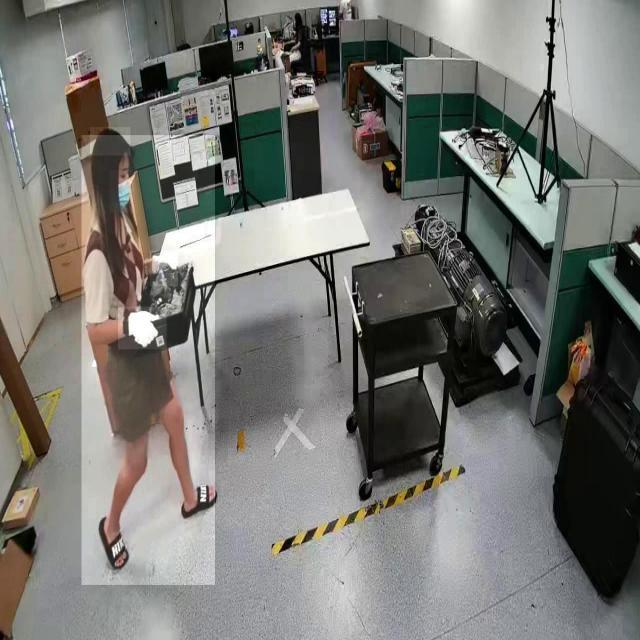gloves: (118, 306, 166, 349), (150, 251, 178, 286)
